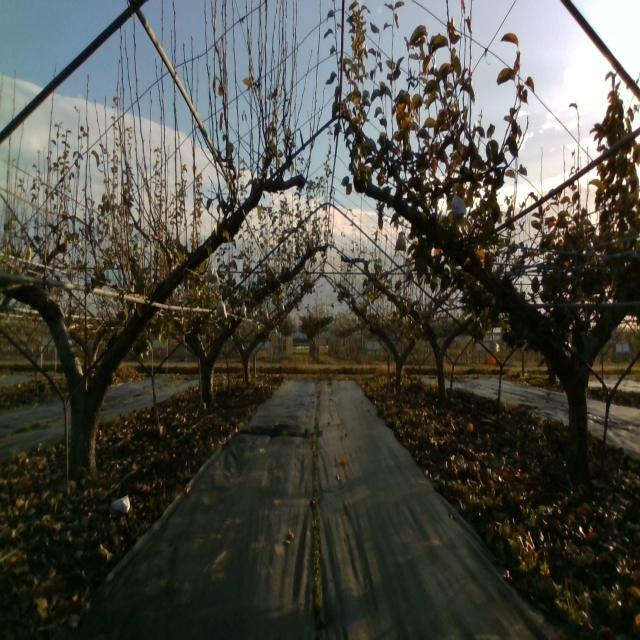pearbags: (451, 194, 466, 218), (216, 294, 227, 320), (205, 264, 219, 284), (394, 234, 406, 251)
